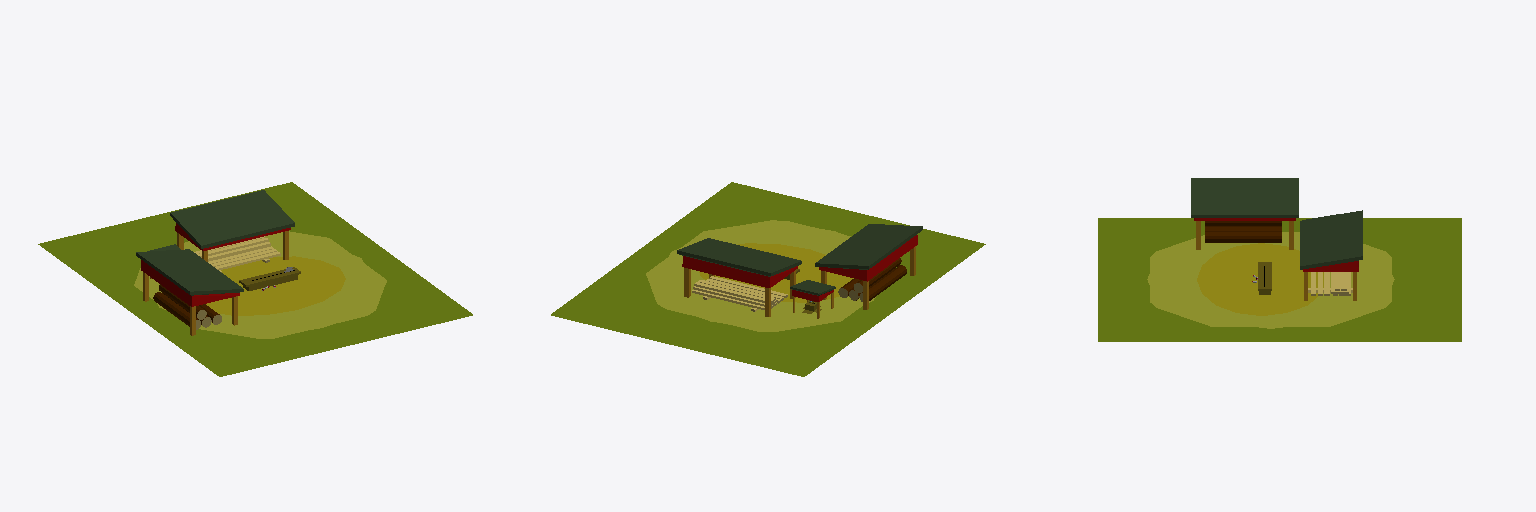
The model's file is sahastage.obj.
The picture shows the model from 3 angles: view 1: azimuth 30°, elevation 25°; view 2: azimuth 150°, elevation 25°; view 3: azimuth 270°, elevation 25°; orthographic projection.
Parts seen in each view (by area): view 1: Cube; view 2: Cube; view 3: Cube.
Part boxes in pixels (x1,y1,x2,y2): Cube: (38,182,472,376); Cube: (551,182,985,376); Cube: (1098,178,1461,341).
Size of the model in its own units: 3.2 by 0.5741 by 3.97.